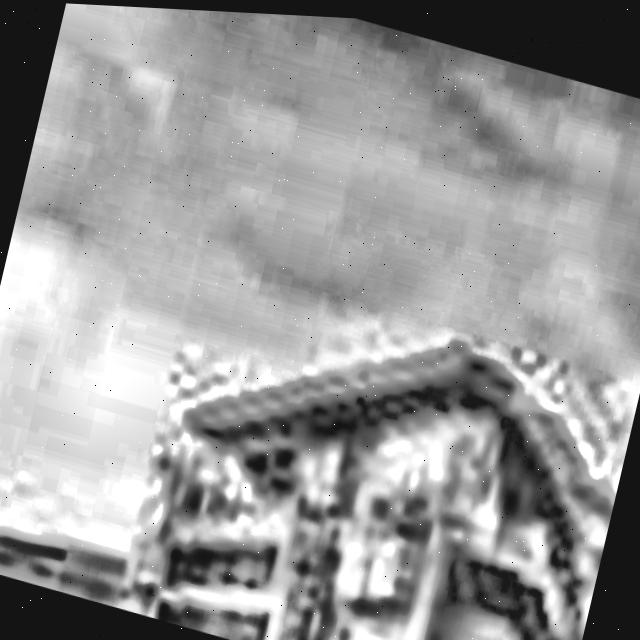dump_truck: (119, 203, 640, 640)
